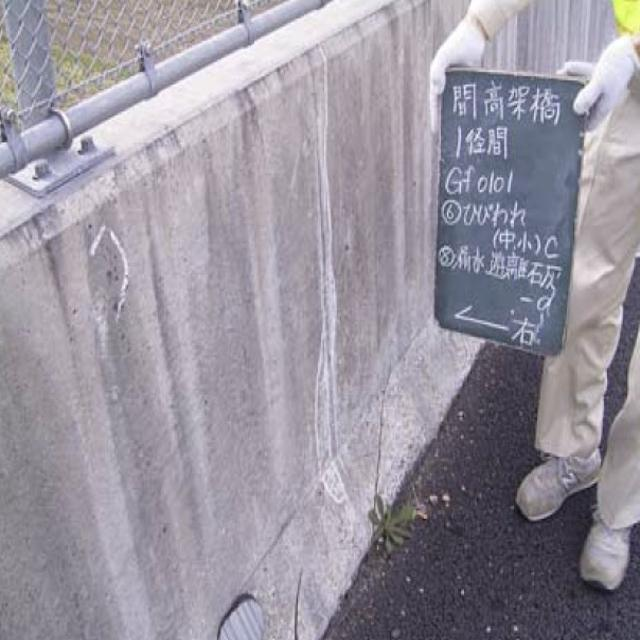freelime: (304, 251, 364, 520)
